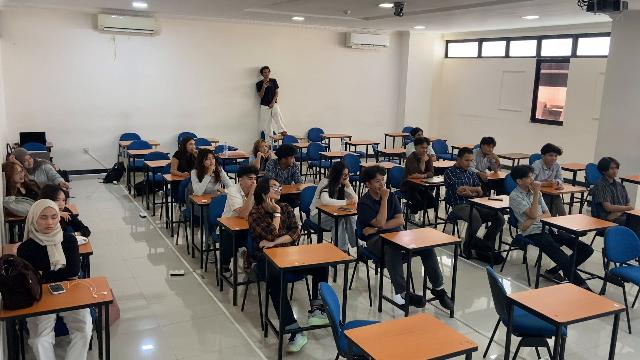bingung: (40, 210, 58, 233), (268, 180, 281, 199), (56, 192, 67, 211), (14, 166, 25, 182), (373, 177, 386, 189), (525, 173, 536, 187), (24, 154, 34, 168), (463, 156, 472, 171), (546, 153, 557, 165), (205, 155, 215, 168), (609, 164, 618, 177), (260, 140, 268, 154), (246, 175, 256, 186), (485, 144, 494, 156), (187, 141, 195, 154), (418, 145, 428, 155)
